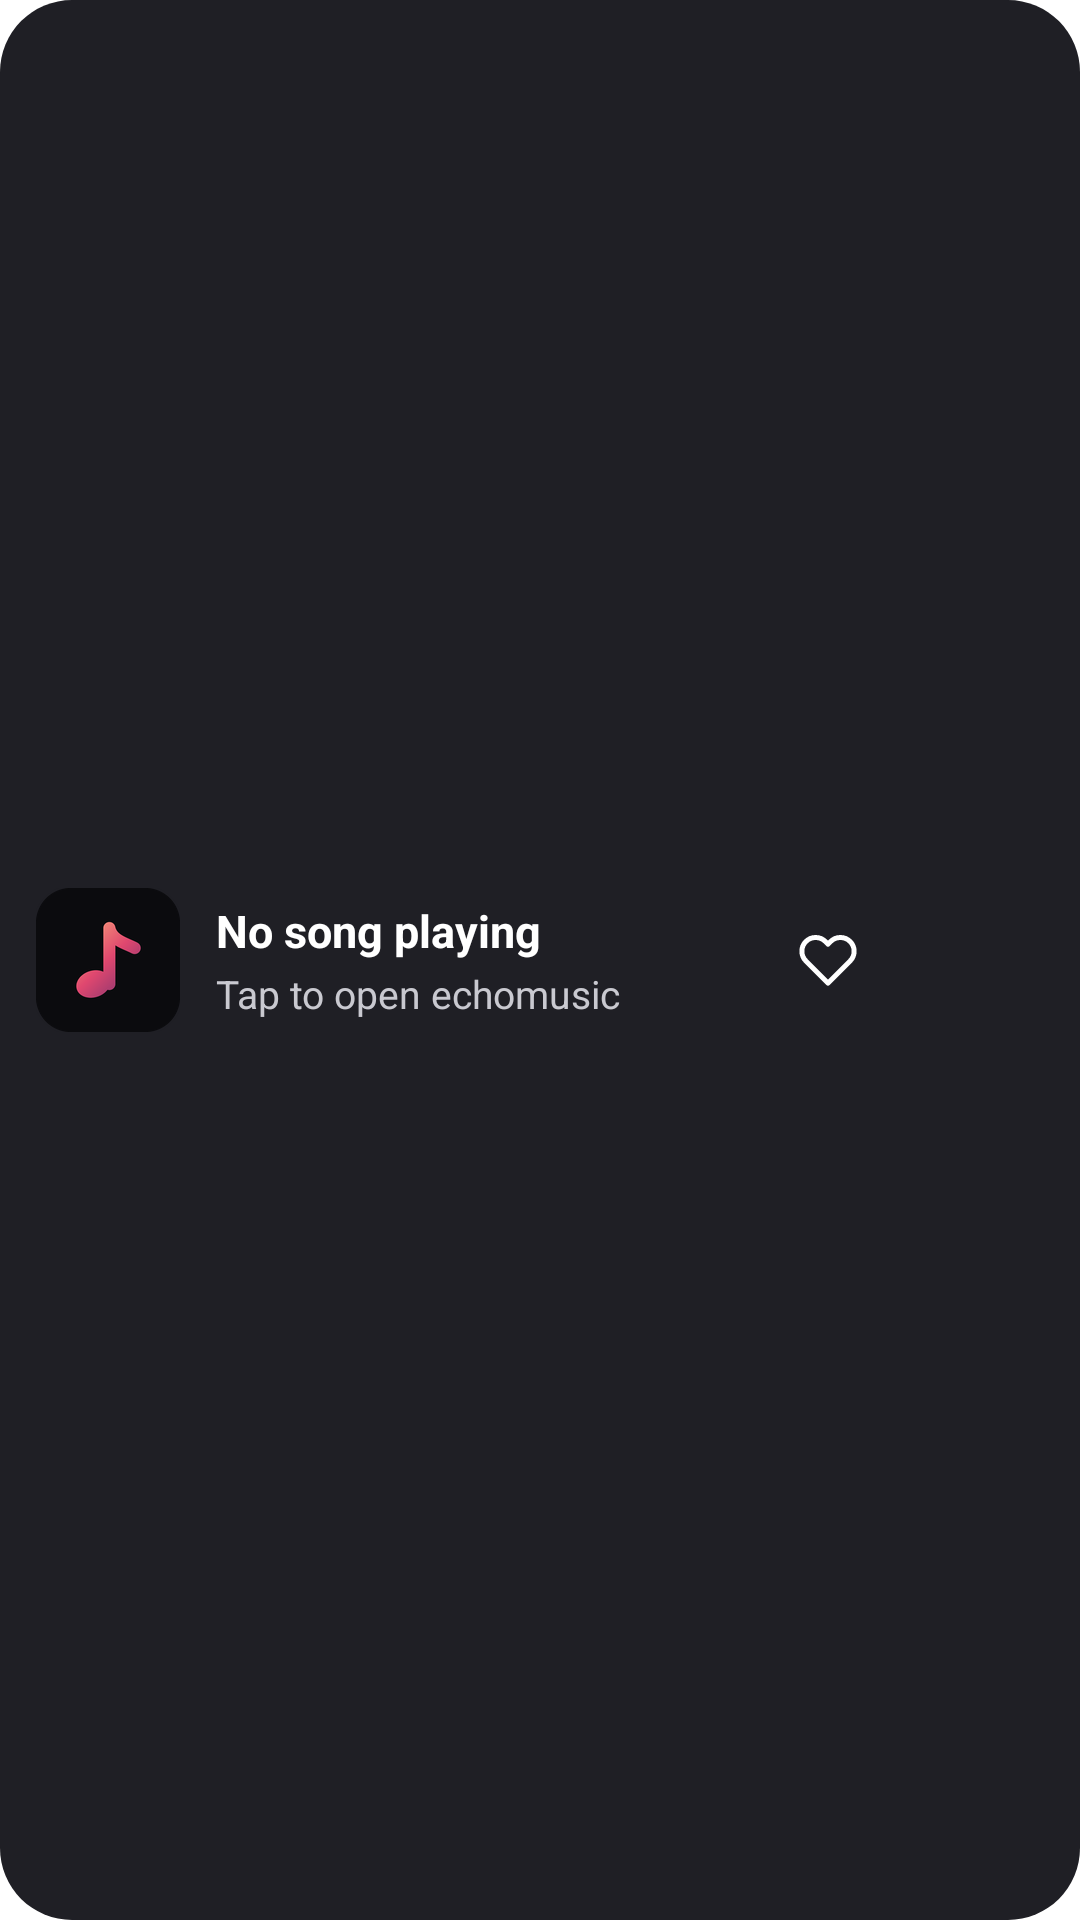

Named icons in this screenshot (1080px×1920px) and their centers, (x=x, y=y):
Like: (x=828, y=960)
